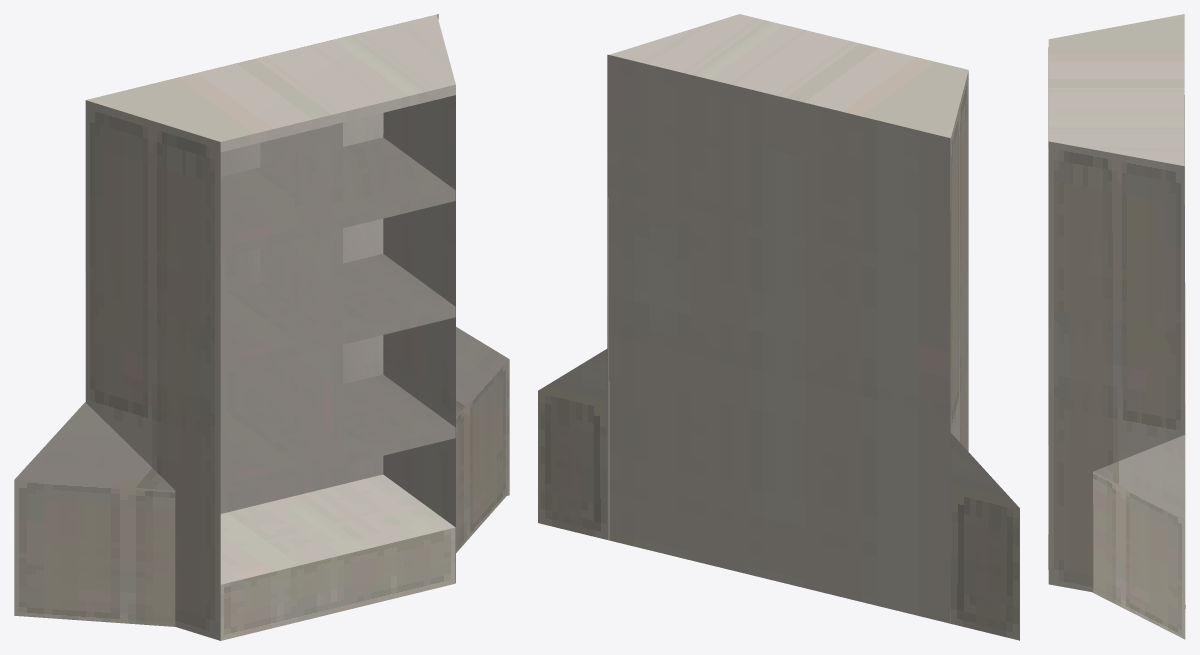
Rendered from frn_all_eleg_bookcase_s01_l3.fbx.
3 renders of one model, left to right at view 1: azimuth 30°, elevation 25°; view 2: azimuth 150°, elevation 25°; view 3: azimuth 270°, elevation 25°, orthographic. The views are drawn at different scales.
Parts seen in each view (by area): view 1: mesh_node; view 2: mesh_node; view 3: mesh_node.
Part boxes in pixels (x1,y1,x2,y2): mesh_node: (14,14,509,640); mesh_node: (538,14,1019,640); mesh_node: (1048,14,1185,639).
Size of the model in its own units: 1.87 by 1.8 by 0.5034.
1 material, 1 textured.
